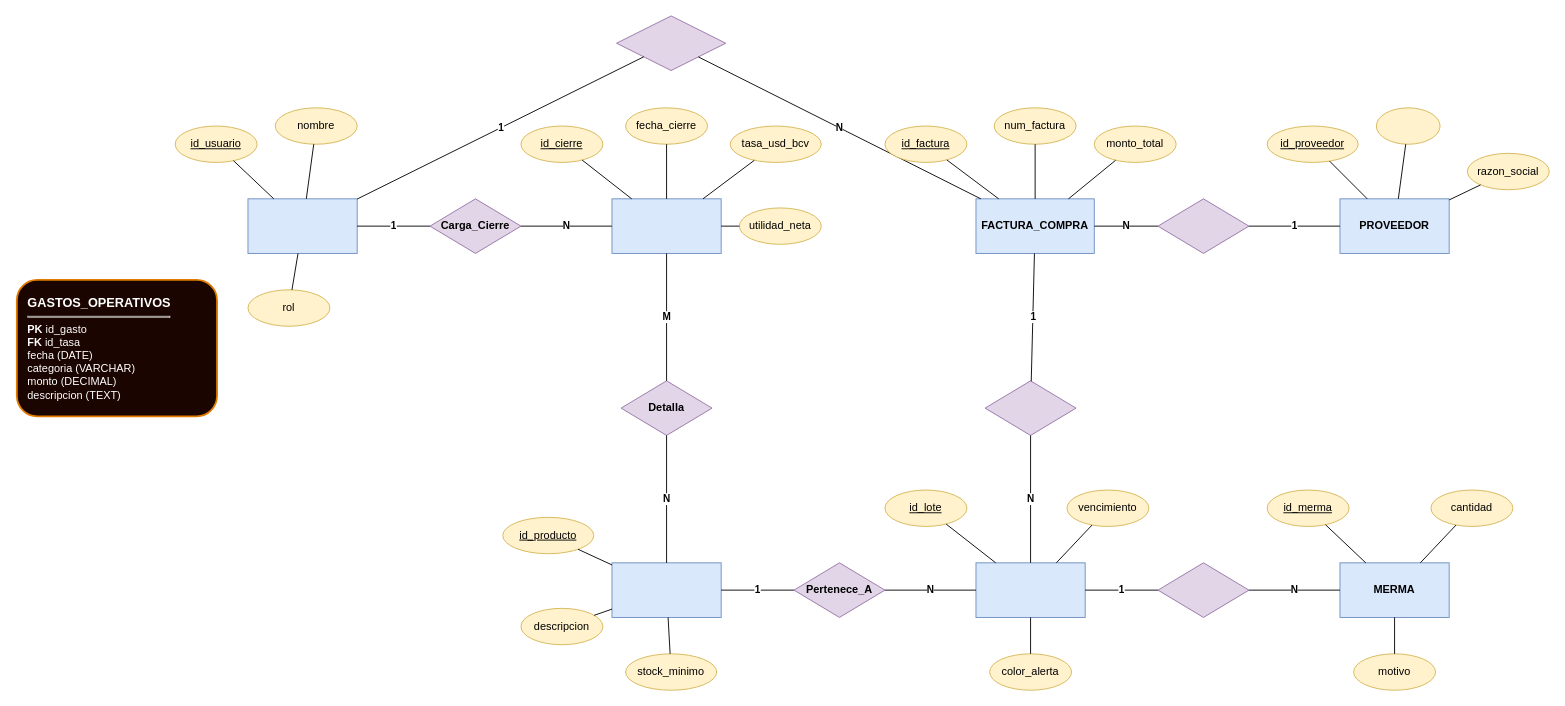
The diagram is 1565 pixels wide and 706 high, and some of its shapes have lost their labels. The shapes that lost their labels are listed below. From the top down, each one's centre as x and y in pixels, then its label:
(x=671, y=43): Registra_Compra
(x=1407, y=125): rif
(x=302, y=225): USUARIO
(x=666, y=225): CIERRE_CAJA
(x=1203, y=225): Suministra
(x=1030, y=407): Contiene
(x=666, y=589): PRODUCTO
(x=1030, y=589): LOTE
(x=1203, y=589): Genera
